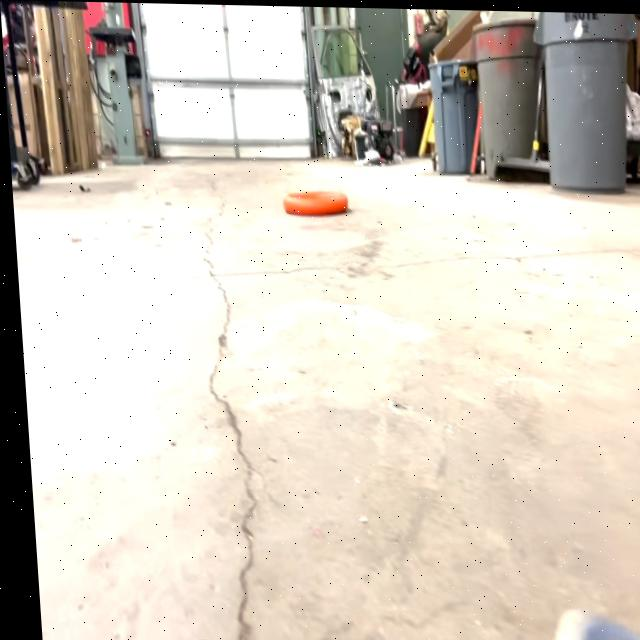note: (280, 189, 347, 215)
